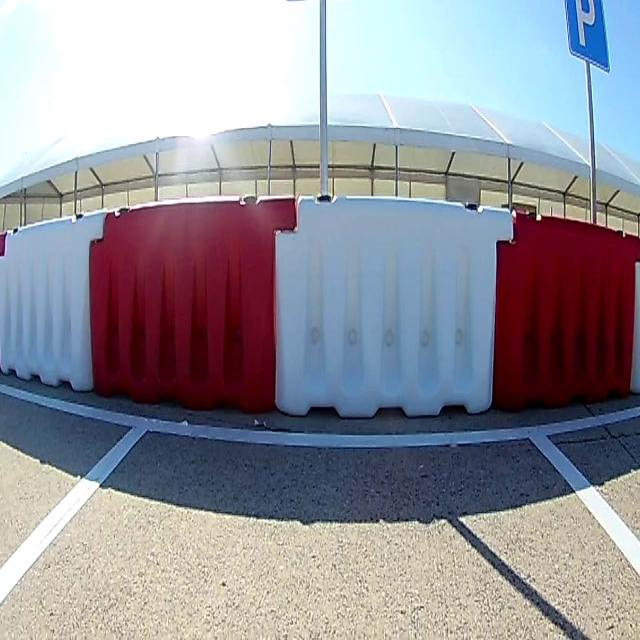park: (565, 2, 610, 70)
